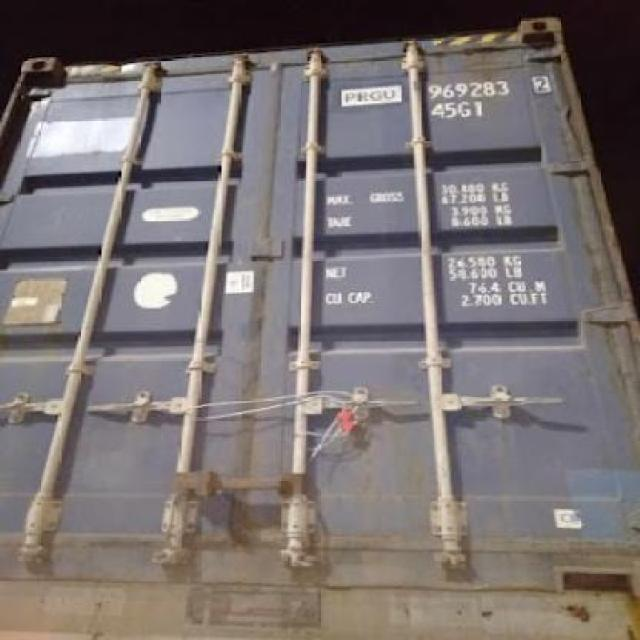ISO: (429, 100, 488, 119)
container_number: (330, 74, 544, 99)
